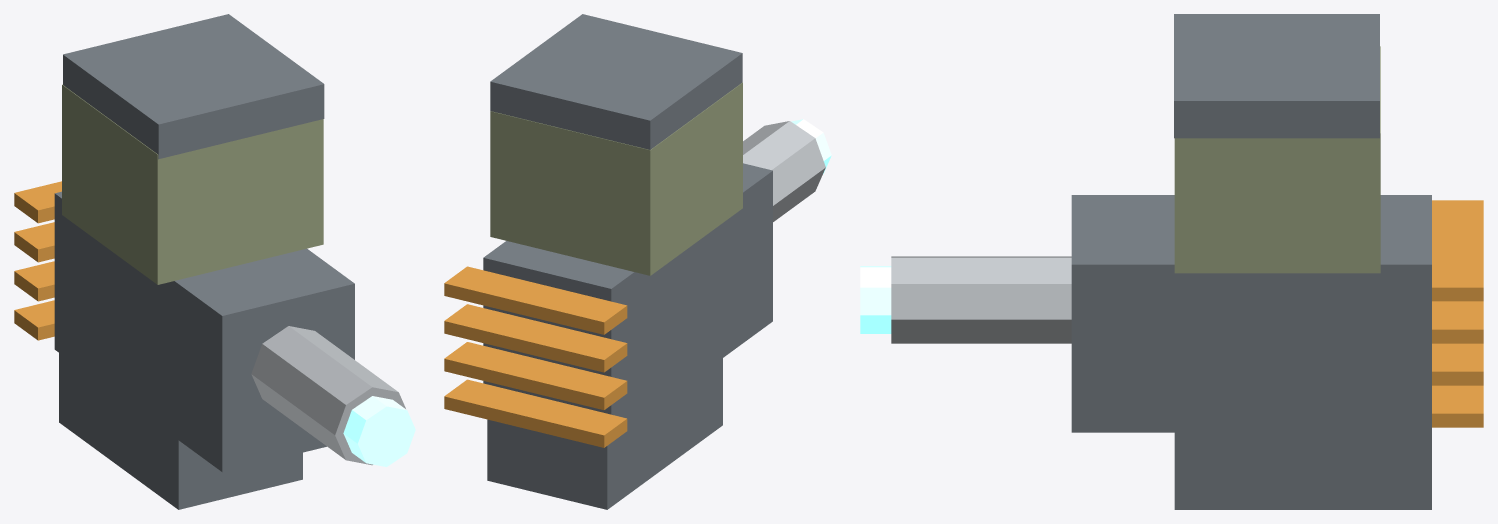
File: mech-hangar-and-battle-frames-laser-pod-fdc4a5a2__26874.glb
3 renders of one model, left to right at view 1: azimuth 30°, elevation 25°; view 2: azimuth 150°, elevation 25°; view 3: azimuth 270°, elevation 25°, orthographic. The views are drawn at different scales.
Visible parts, largest first — view 1: gun (×4), laser-pod; view 2: gun (×4), laser-pod; view 3: gun (×4), laser-pod.
Part boxes in pixels (x1,y1,x2,y2): gun (×4): (14, 181, 415, 509); laser-pod: (62, 14, 324, 284); gun (×4): (444, 119, 831, 509); laser-pod: (490, 14, 742, 275); gun (×4): (860, 195, 1483, 509); laser-pod: (1174, 14, 1380, 273).
Size of the model in its own units: 0.4012 by 0.9 by 1.21.
